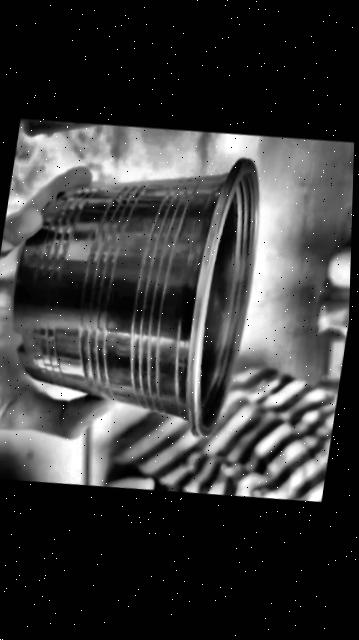pot: (11, 160, 256, 437)
